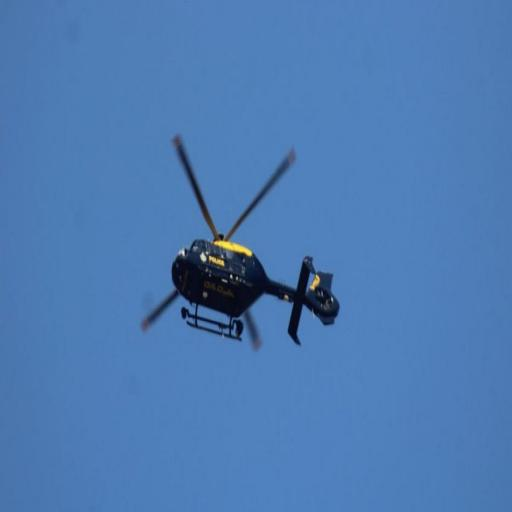helicopter: (139, 134, 343, 350)
